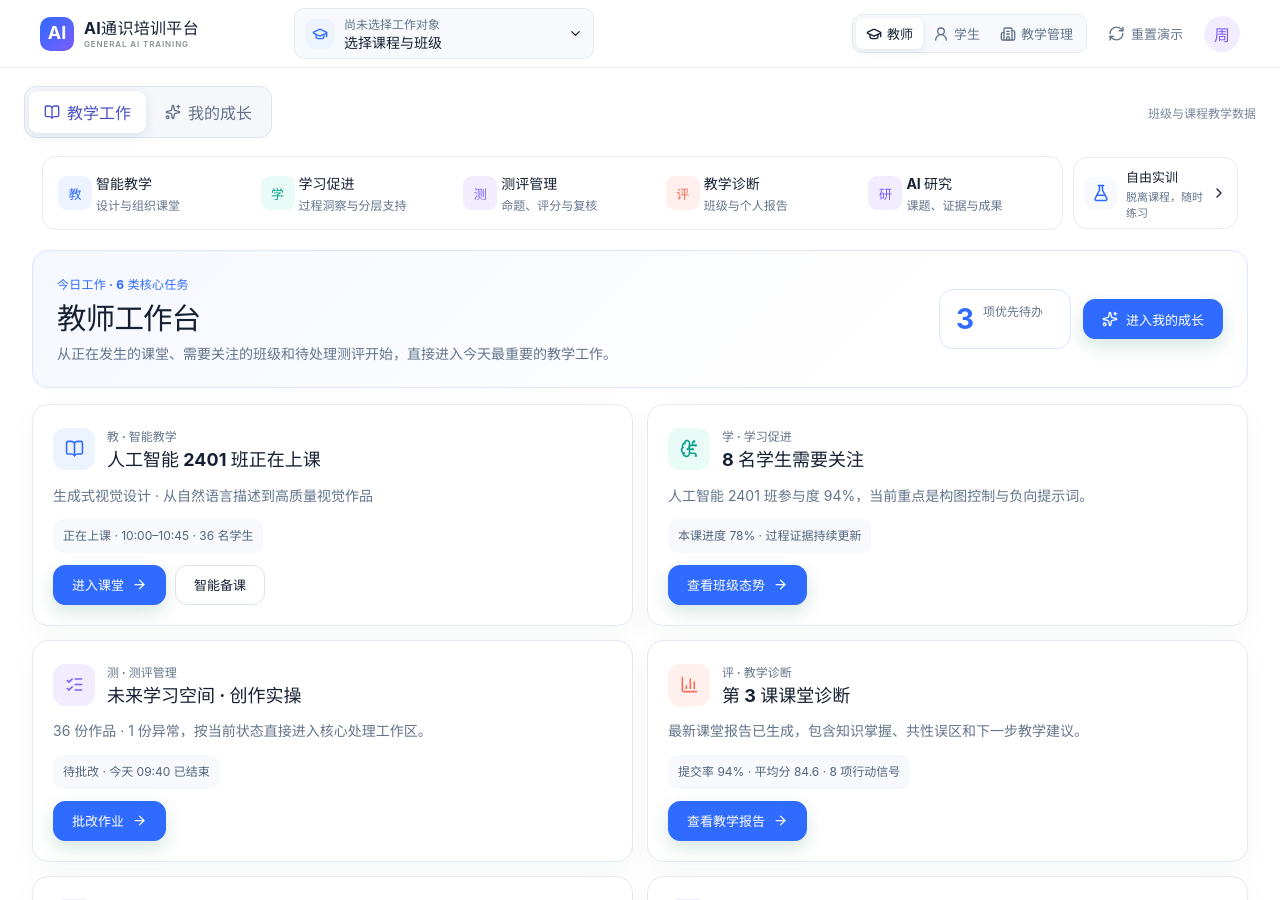
Test case: 产品定位全面覆盖 › 学生报告只展示本人前后变化并可打开真实证据详情
Click the button "学生" at (956, 34), box [923,18,990,49]
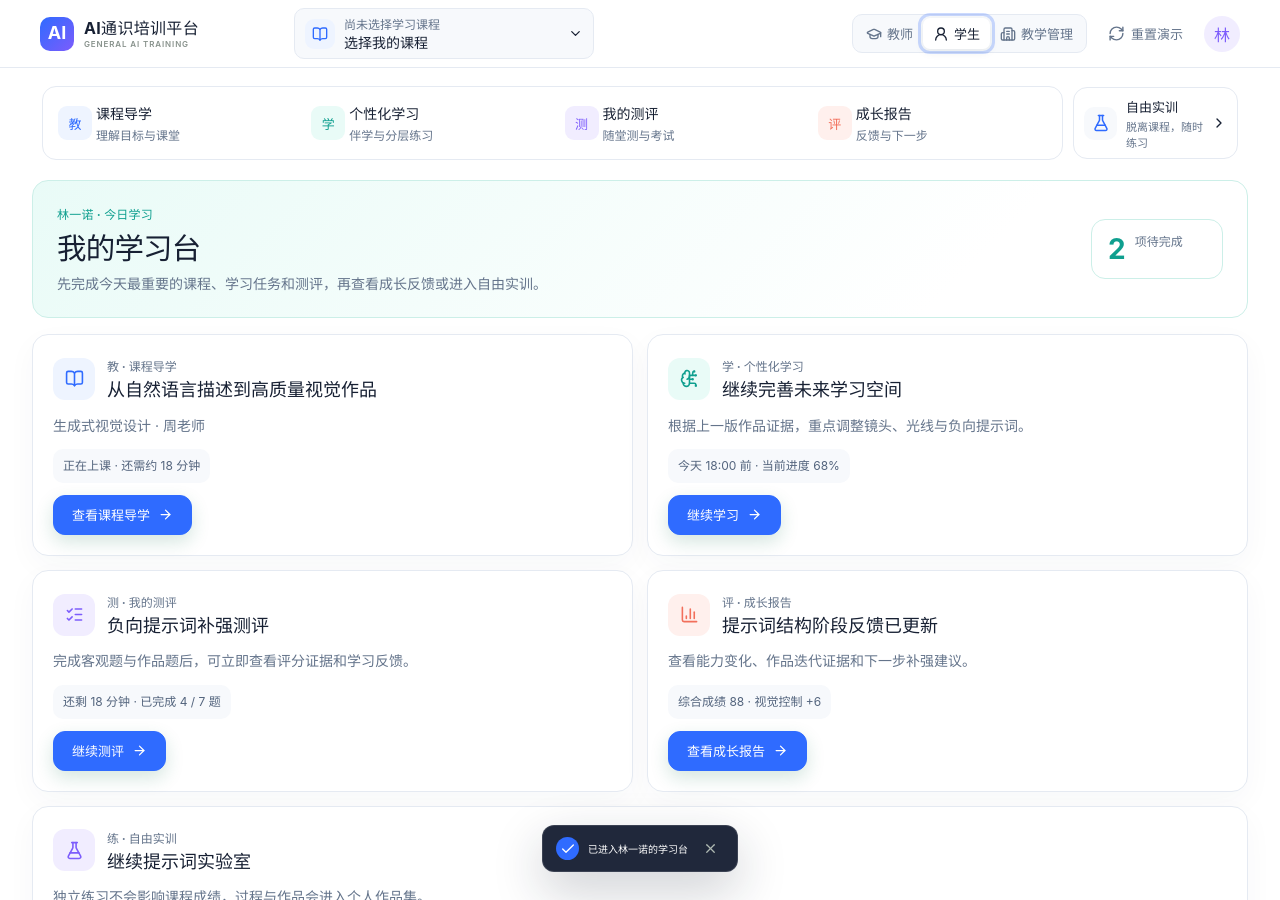
Click the button "查看成长报告" at (738, 751), box [668,731,807,771]
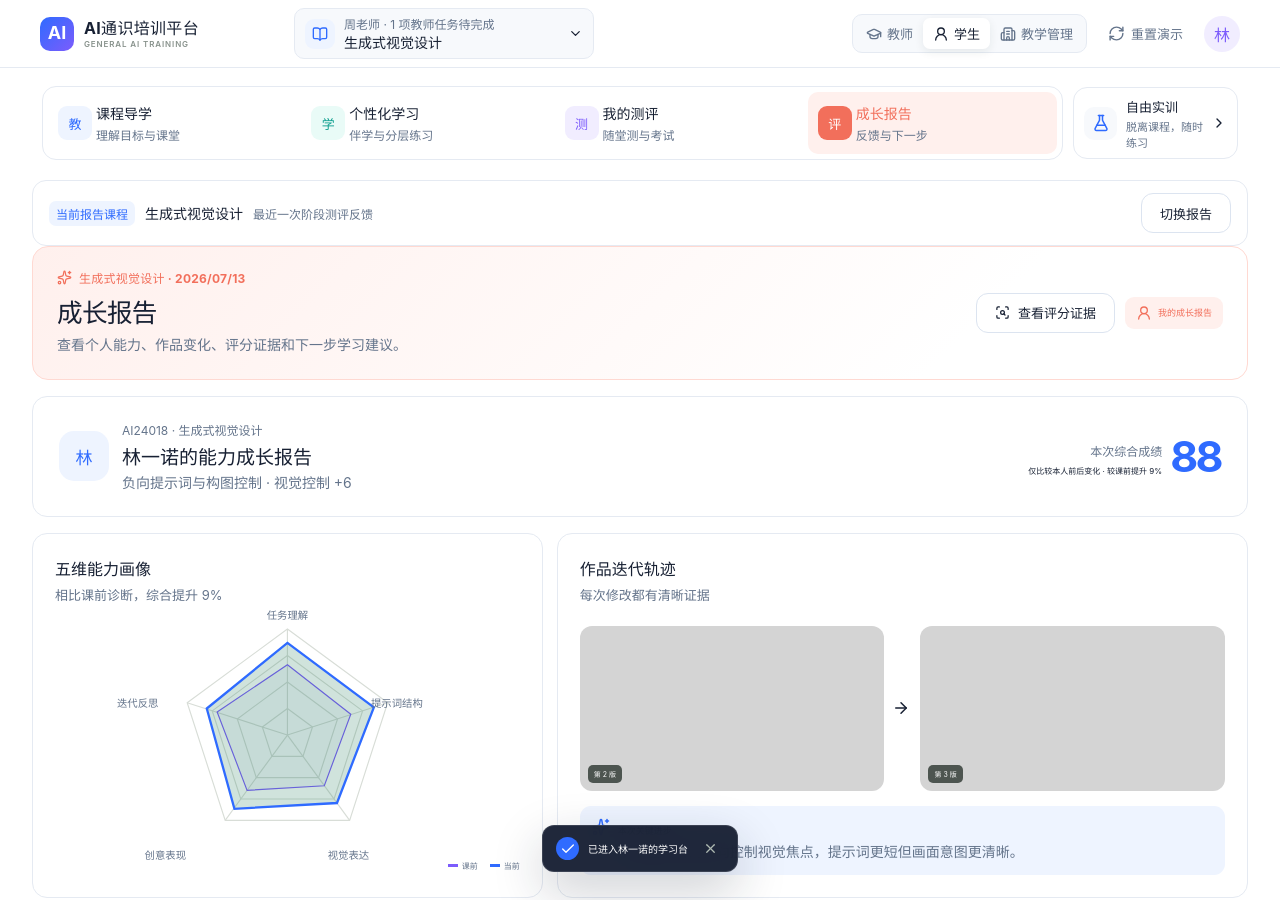
Check: the text "仅比较本人前后变化 · 较课前提升 9%" is shown, box [1028,465,1162,476]
Click the button "查看评分证据" at (1046, 313), box [976,293,1115,333]
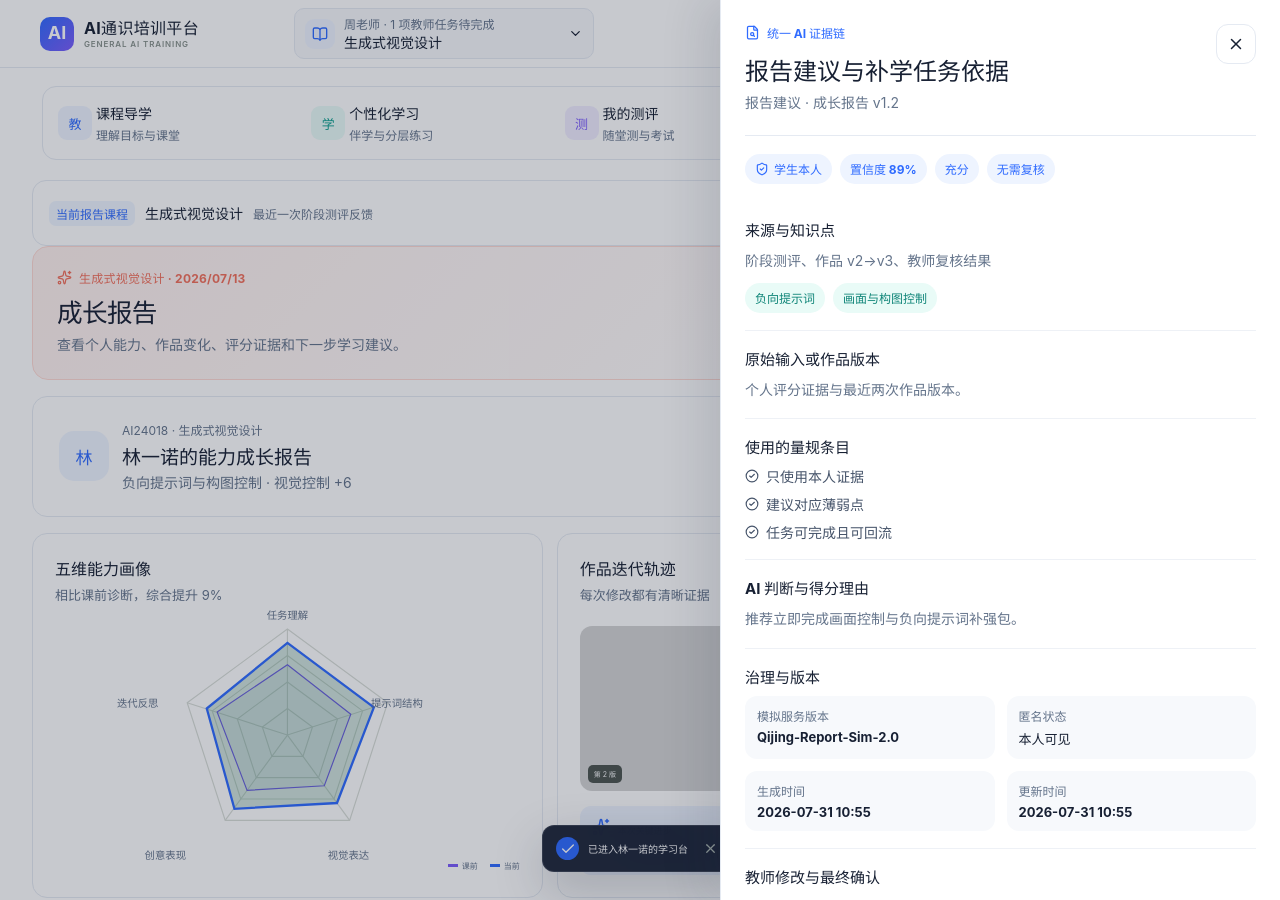
Check: the dialog "报告建议与补学任务依据" is shown, box [720,0,1279,899]
Check: the text "模拟服务版本" is shown, box [757,709,829,724]
Check: the heading "教师修改与最终确认" is shown, box [745,868,880,887]
